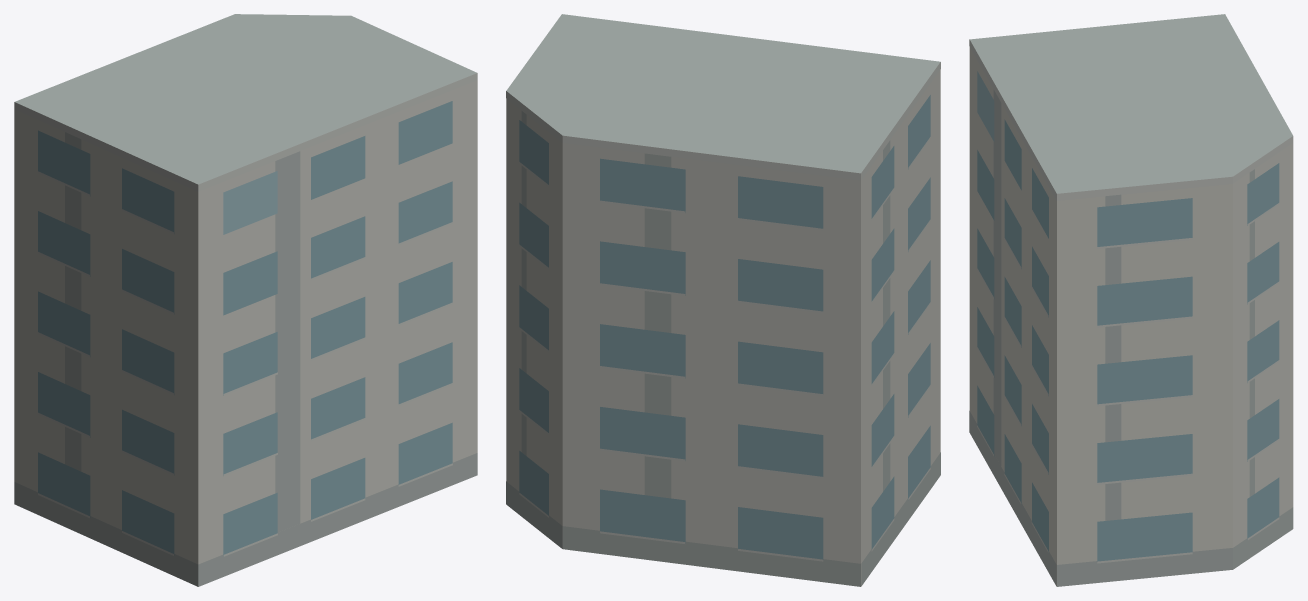
File: survey-upis-32812074.glb
The picture shows the model from 3 angles, left to right: view 1: azimuth 30°, elevation 25°; view 2: azimuth 150°, elevation 25°; view 3: azimuth 270°, elevation 25°; orthographic projection. The views are drawn at different scales.
Visible parts, largest first — view 1: survey-upis-32812074.tmp; view 2: survey-upis-32812074.tmp; view 3: survey-upis-32812074.tmp.
Boxes of the visible parts, box(x1,y1,x2,y2) form: survey-upis-32812074.tmp: box(14, 14, 477, 586); survey-upis-32812074.tmp: box(506, 14, 940, 586); survey-upis-32812074.tmp: box(969, 14, 1293, 586).
Size of the model in its own units: 13.25 by 13.5 by 10.09.
